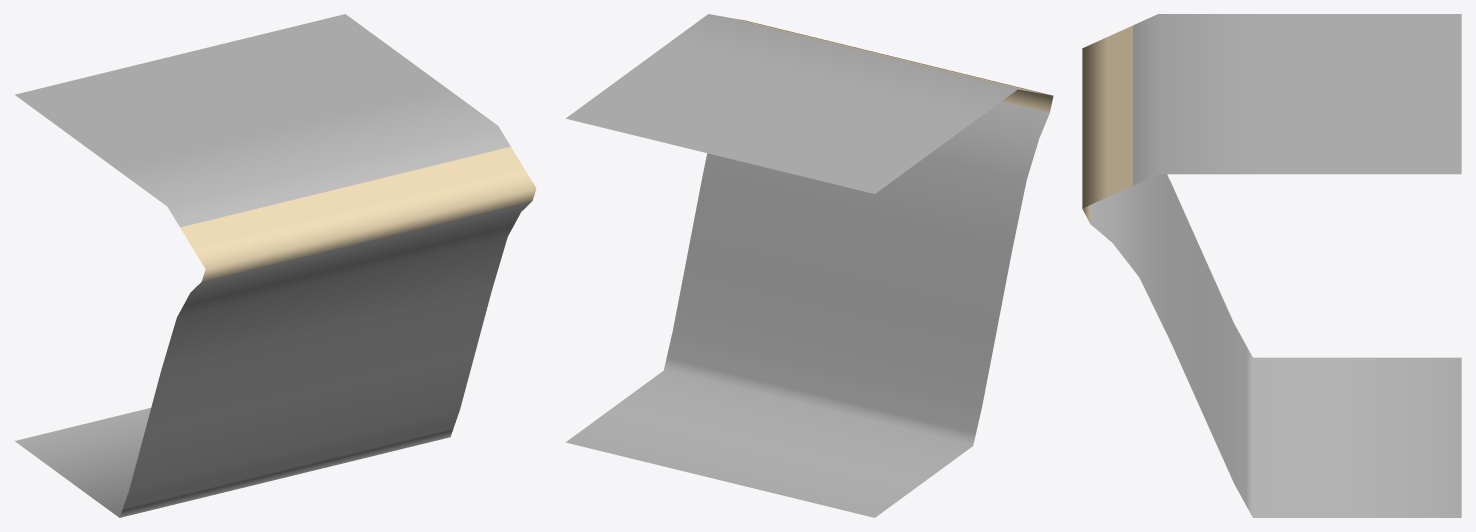
The model's file is pf_rail_d.glb.
The picture shows the model from 3 angles, left to right: view 1: azimuth 30°, elevation 25°; view 2: azimuth 150°, elevation 25°; view 3: azimuth 270°, elevation 25°; orthographic projection. The views are drawn at different scales.
Parts seen in each view (by area): view 1: pf_rail_d; view 2: pf_rail_d; view 3: pf_rail_d.
Boxes of the visible parts, x1,y1,x2,y2 form: pf_rail_d: (15,14,536,517); pf_rail_d: (565,14,1053,517); pf_rail_d: (1082,14,1461,517).
Bounding box in the file's own units: 1 × 1 × 1.
